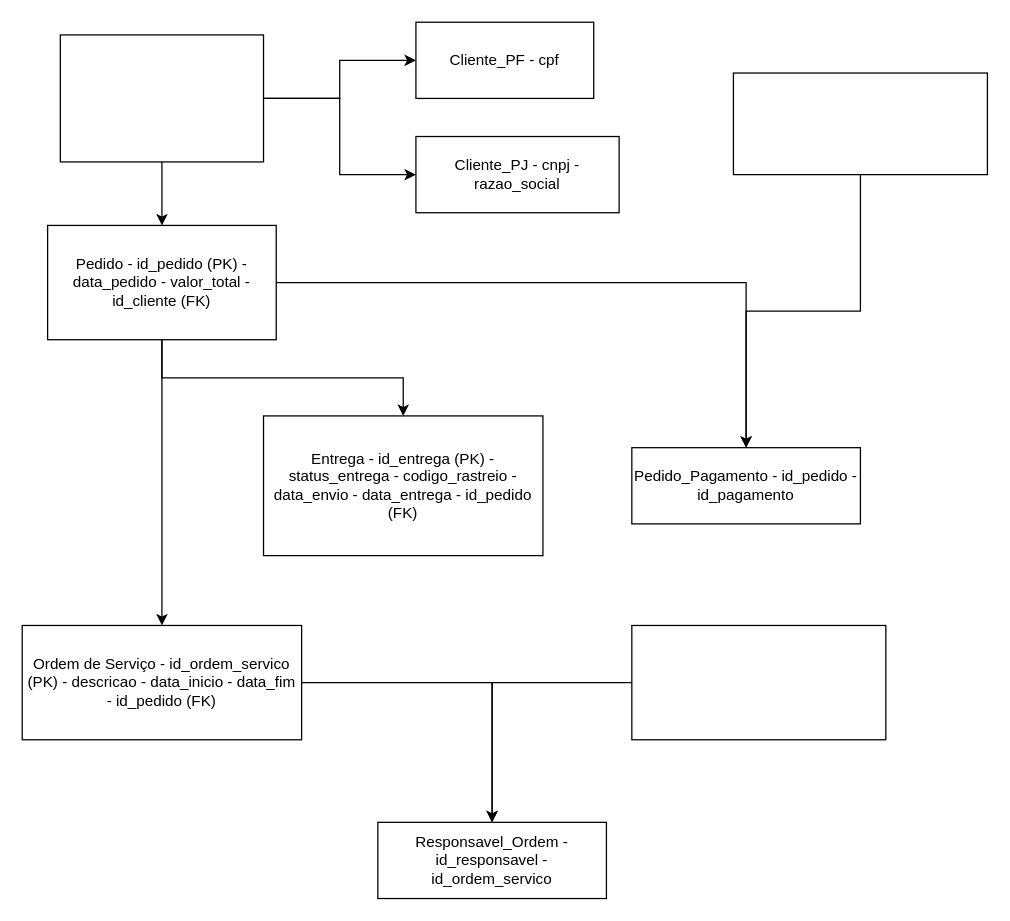
Some shapes in this 1010 by 921 pixel diagram are drawn without their labels. Here are the shapes that lost their labels. From the top down, the centre of each, then its label:
point (161, 98): Cliente - id_cliente (PK) - nome - email - telefone
point (859, 123): Forma de Pagamento - id_pagamento (PK) - tipo_pagamento - detalhes
point (758, 682): Responsável - id_responsavel (PK) - nome - cargo - telefone
